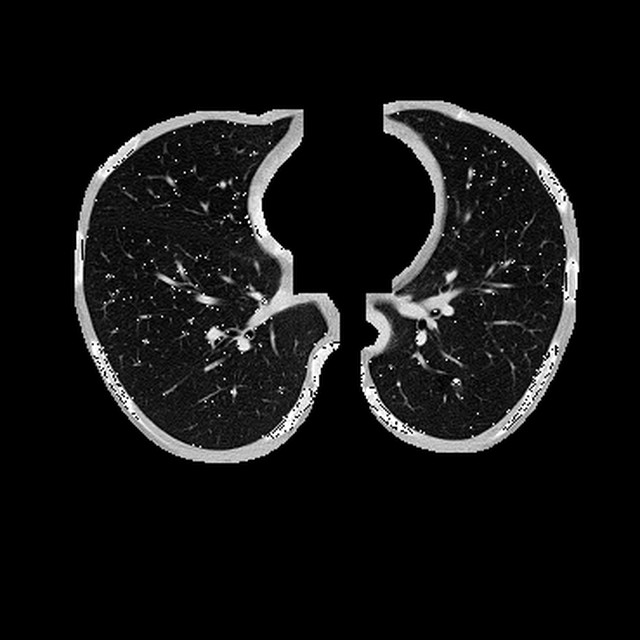PN: (453, 378, 460, 385)
